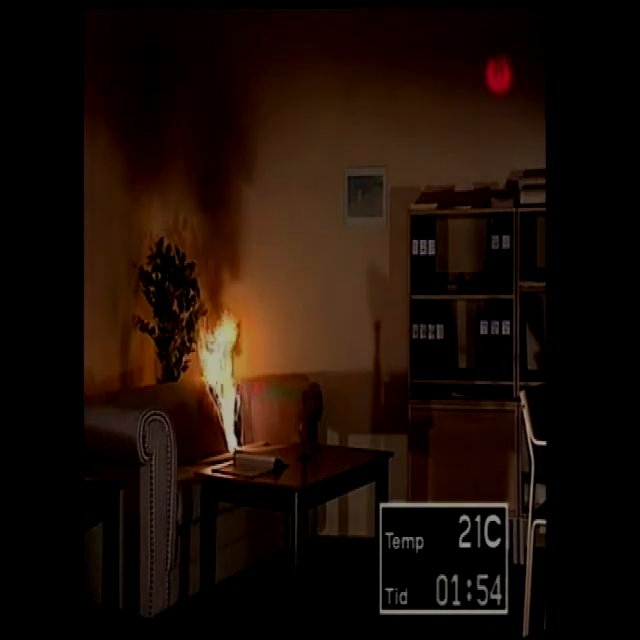fire: (198, 307, 254, 470)
